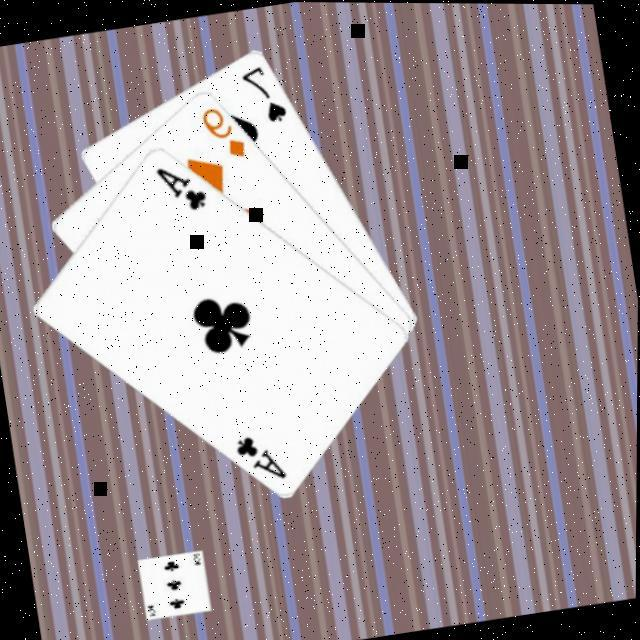7S: (236, 60, 290, 130)
9D: (196, 101, 250, 167)
AC: (230, 428, 292, 490), (151, 159, 211, 220)
